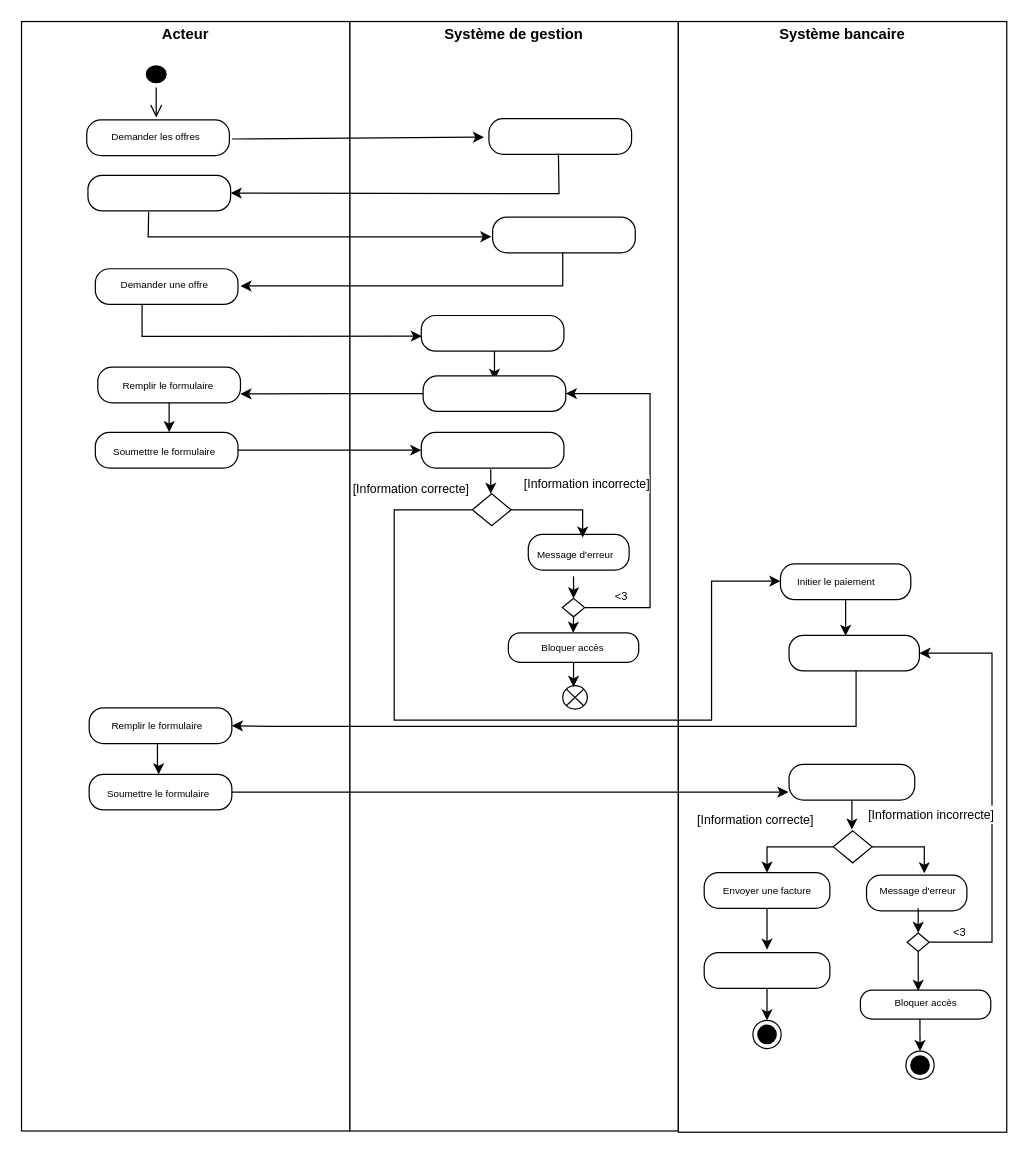
Image size: 1028x1154. Some labels were removed from this diagram. Each missing label, with the centre of its shape:
"Afficher formulaire d'inscription" belongs at point 853,652.
"Afficher le formulaire" belongs at point 494,393.
"Afiicher les offres" belongs at point 560,135.
"Demande de s'authentifier" belongs at point 492,332.
"Détail de l'offre" belongs at point 563,234.
"Réservation réussie" belongs at point 766,969.
"Sélectionner une offre" belongs at point 159,192.
"Vérifier les conditions" belongs at point 851,781.
"Vérifier les informations" belongs at point 492,449.
